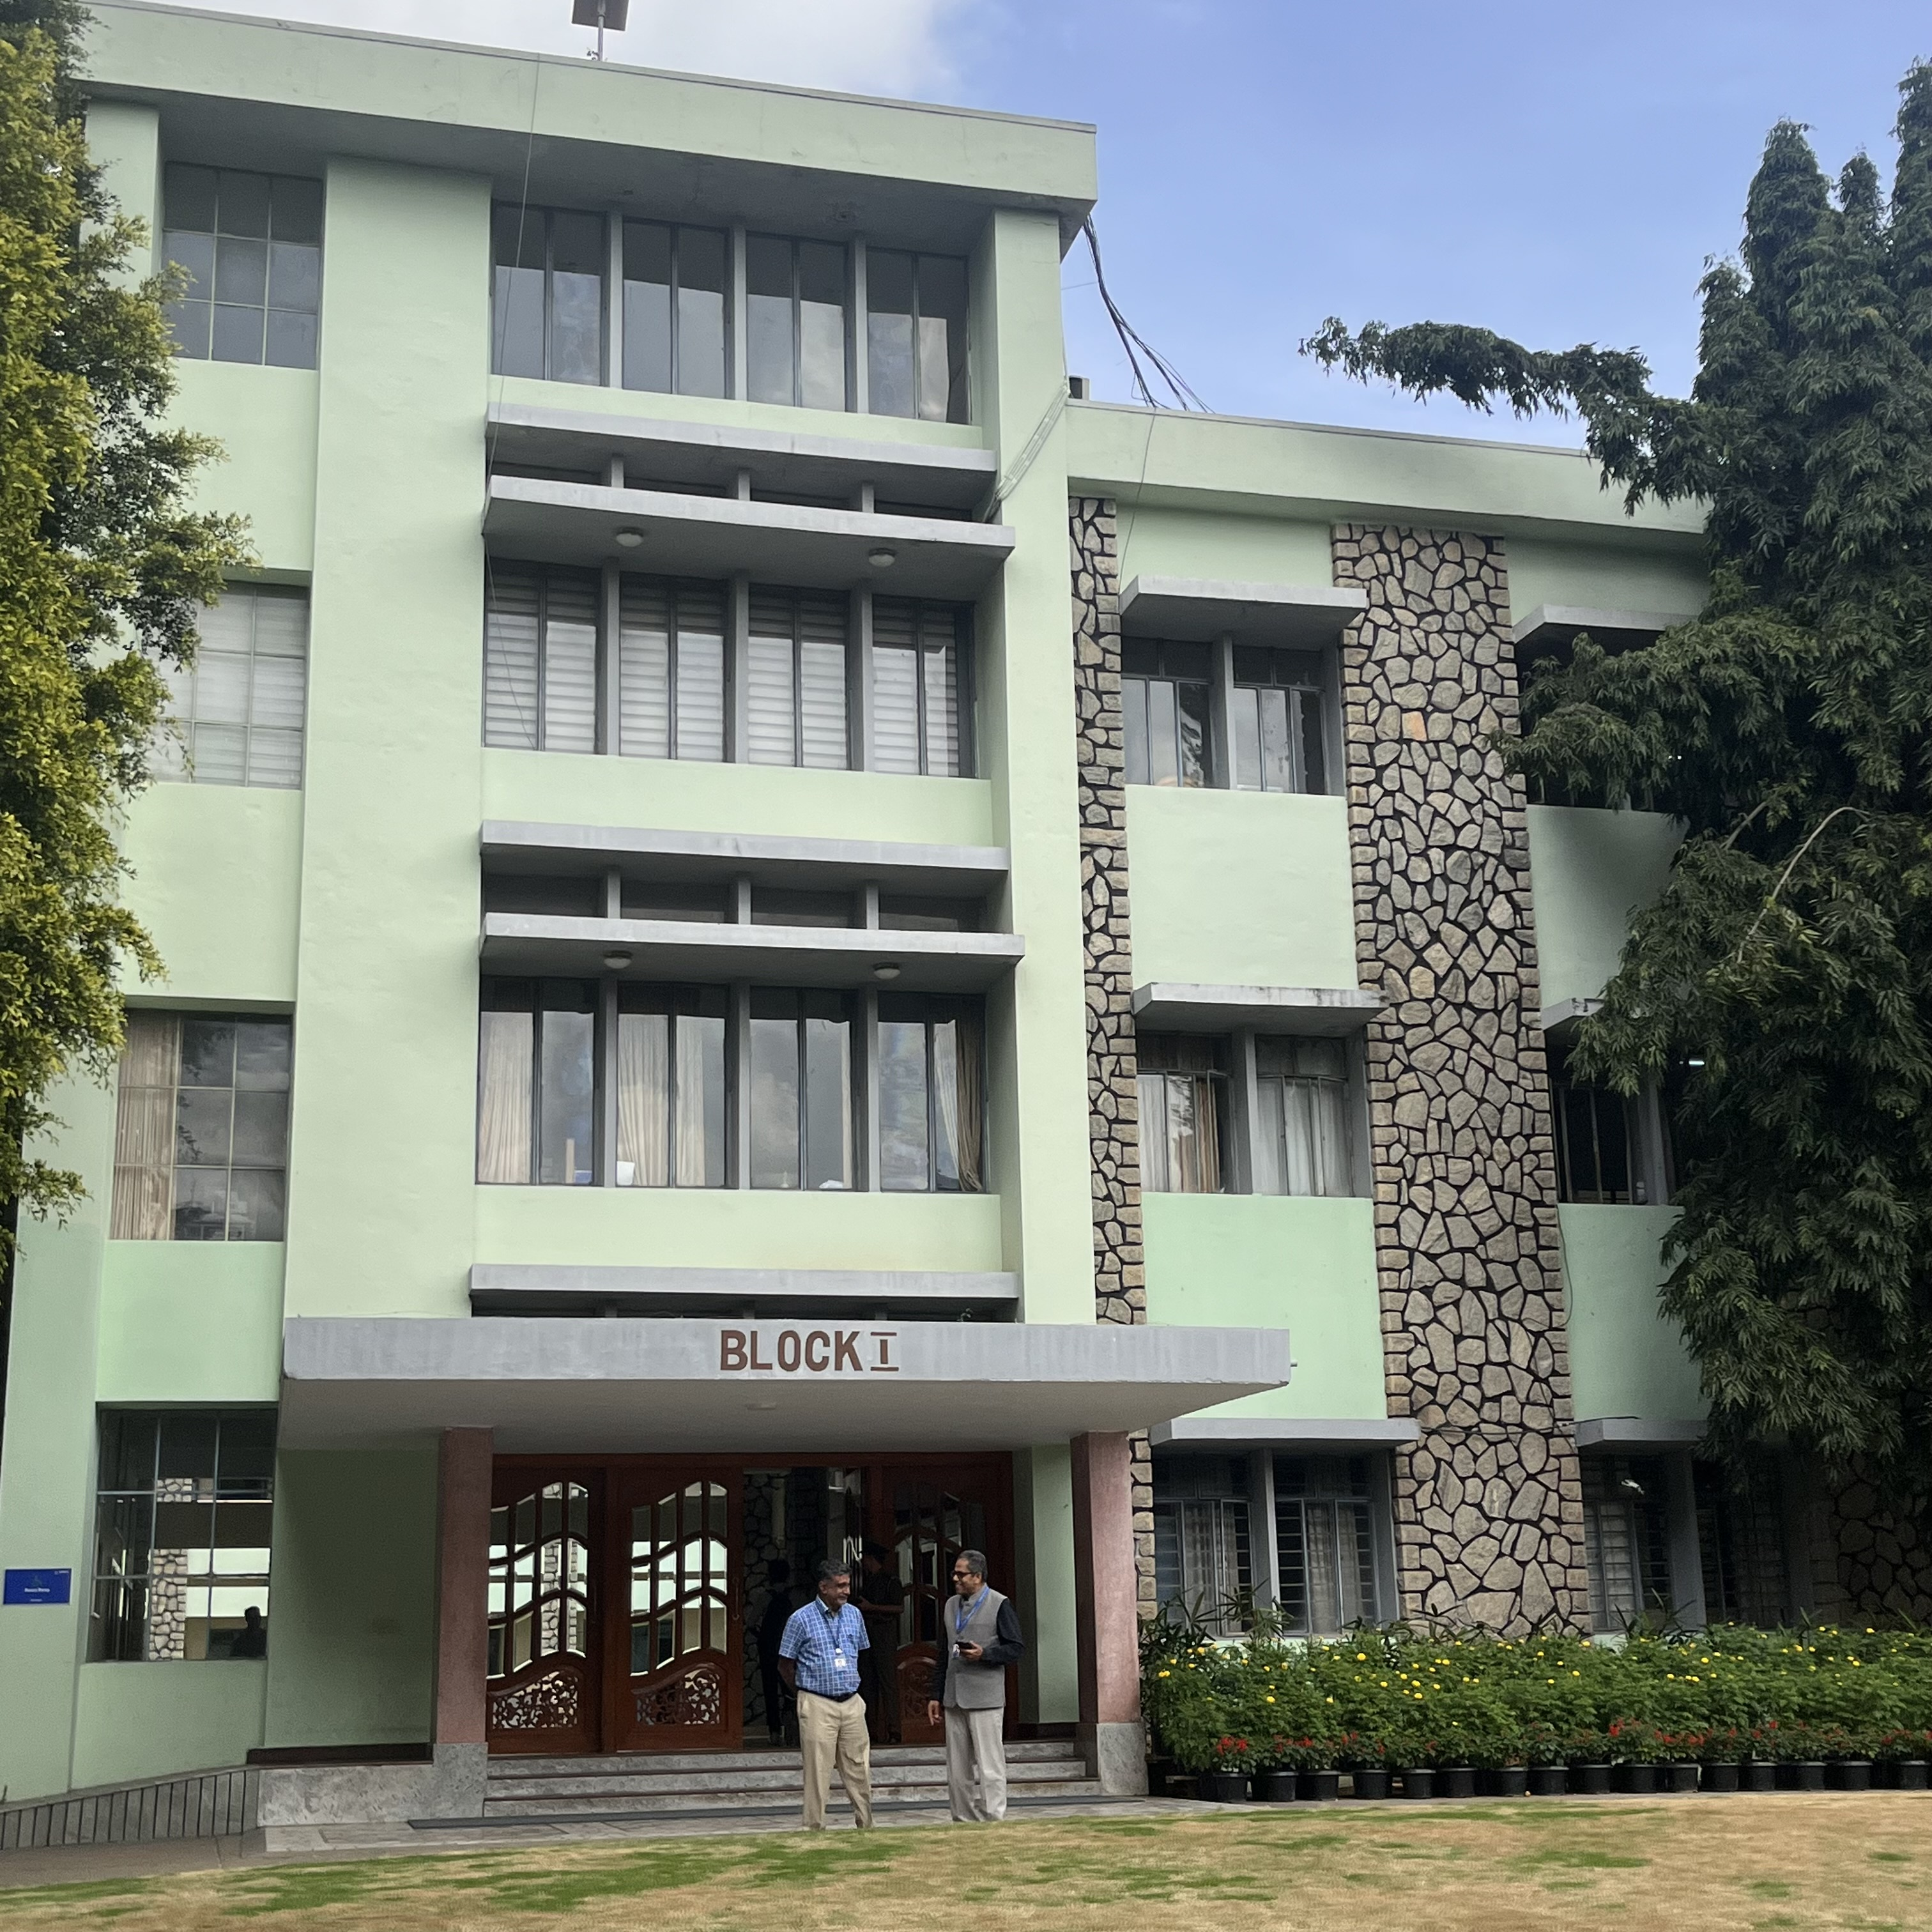Block 1: (90, 51, 1684, 1739)
